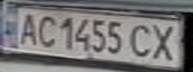1: (54, 15, 75, 51)
4: (72, 16, 93, 52)
5: (106, 19, 130, 56), (87, 17, 109, 54)
A: (12, 10, 42, 47)
C: (124, 21, 157, 59), (33, 12, 60, 48)
X: (145, 21, 184, 62)
